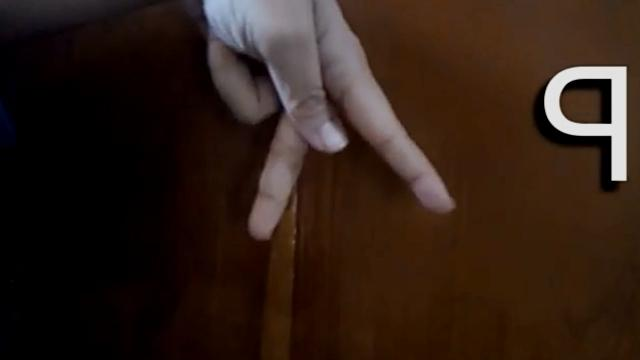P: (191, 0, 467, 244)
